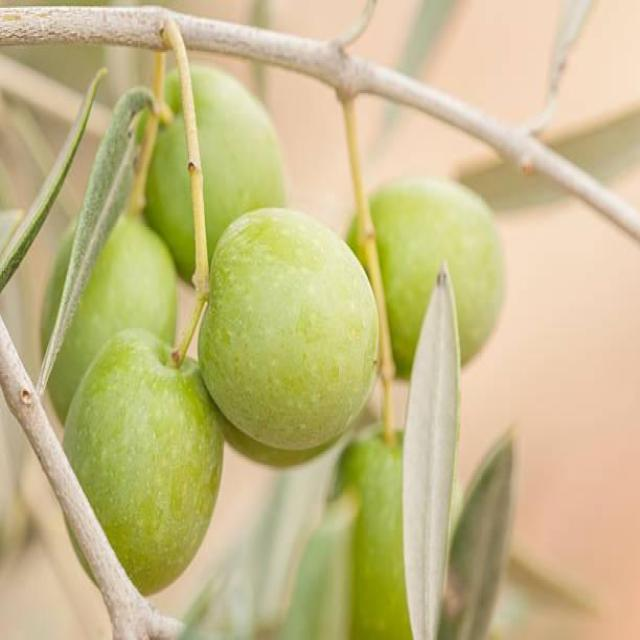Healthy: (200, 208, 376, 449), (64, 329, 222, 594)
